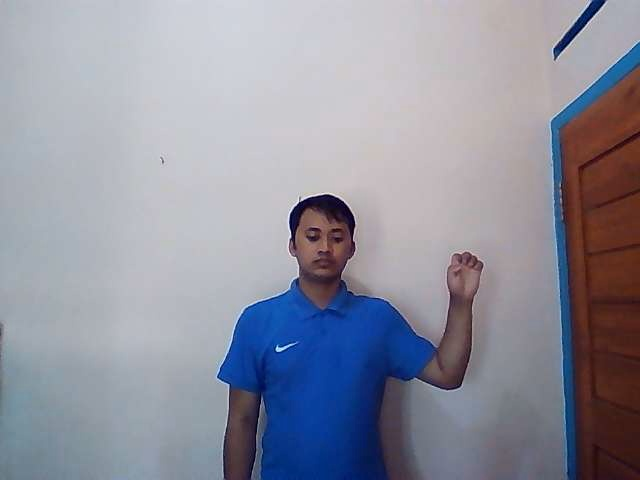E: (444, 250, 485, 299)
